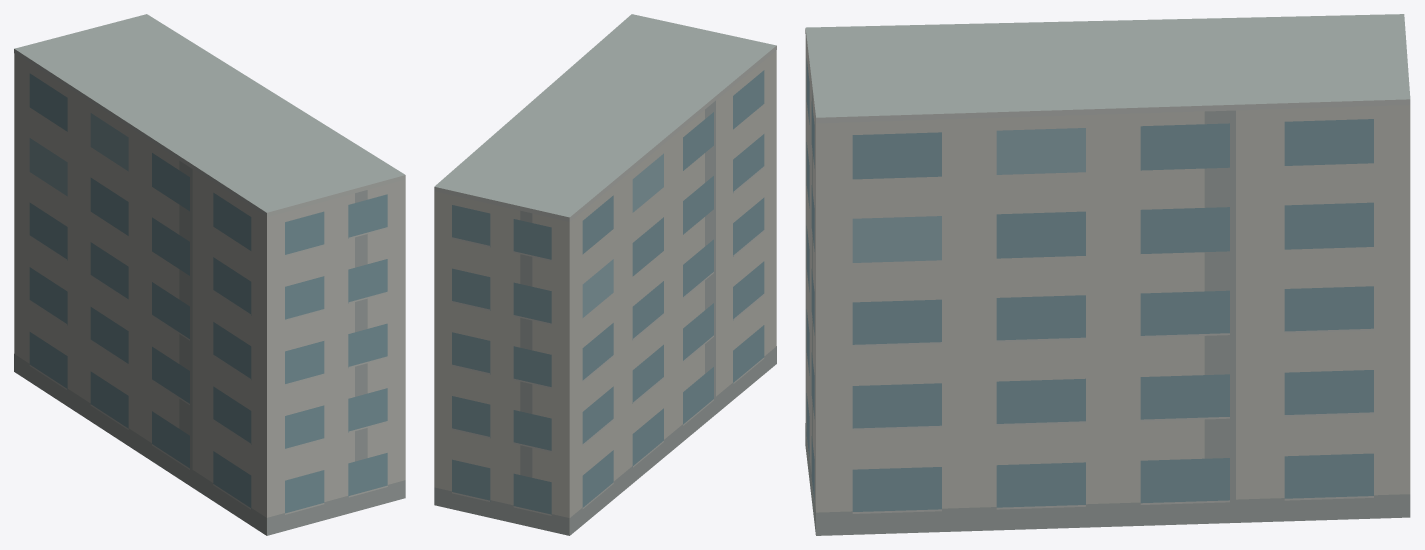
Rendered from survey-upis-32639380.glb.
3 views of the same model, side by side, from view 1: azimuth 30°, elevation 25°; view 2: azimuth 150°, elevation 25°; view 3: azimuth 270°, elevation 25° (orthographic). The views are drawn at different scales.
Parts seen in each view (by area): view 1: survey-upis-32639380.tmp; view 2: survey-upis-32639380.tmp; view 3: survey-upis-32639380.tmp.
Part boxes in pixels (x1,y1,x2,y2): survey-upis-32639380.tmp: (14,14,405,535); survey-upis-32639380.tmp: (434,14,776,535); survey-upis-32639380.tmp: (805,14,1410,535).
Bounding box in the file's own units: 9.4 × 17.65 × 23.15.
